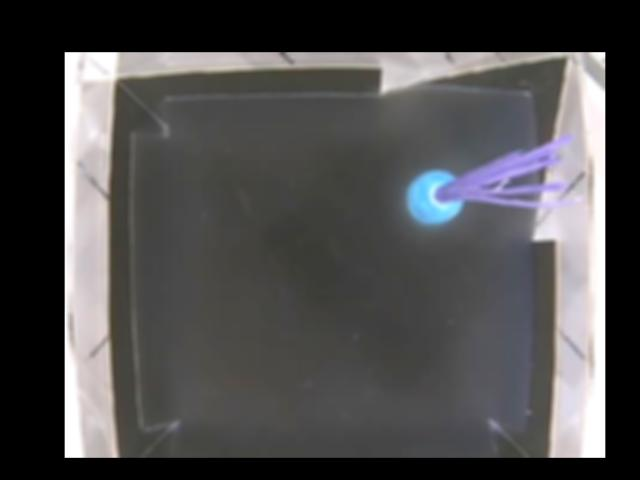Carrot: (405, 158, 516, 222)
